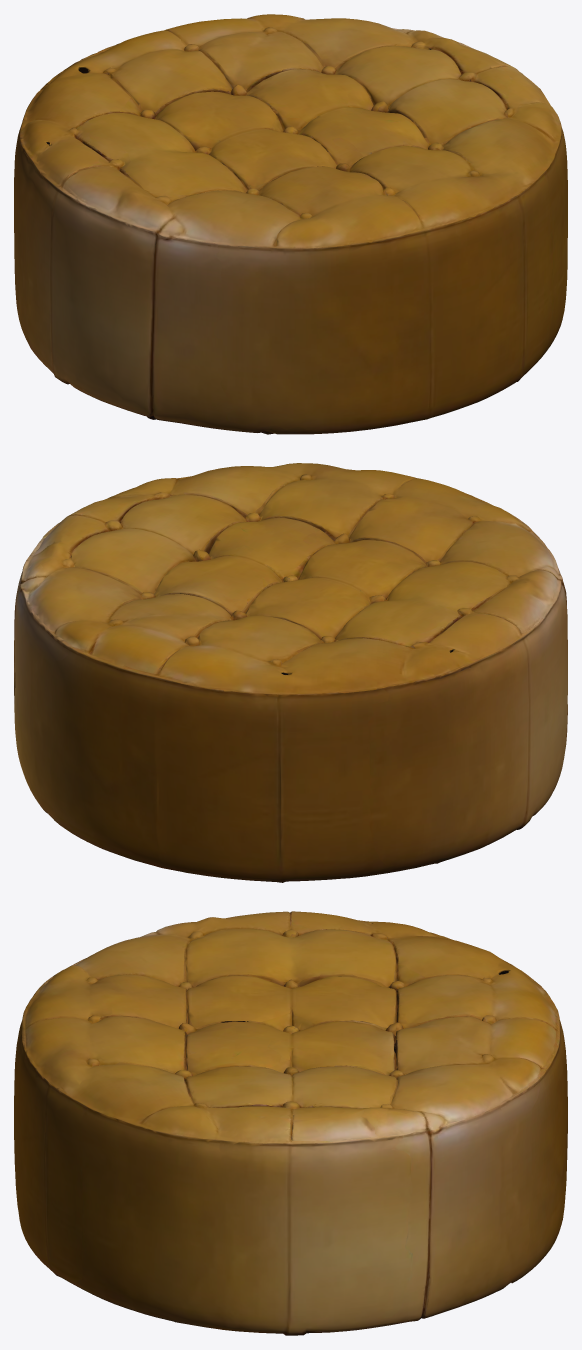
The picture shows the model from 3 angles, top to bottom: view 1: azimuth 30°, elevation 25°; view 2: azimuth 150°, elevation 25°; view 3: azimuth 270°, elevation 25°; orthographic projection.
Visible parts, largest first — view 1: geometry_0; view 2: geometry_0; view 3: geometry_0.
Part boxes in pixels (<box>): geometry_0: <box>14,14,567,434</box>; geometry_0: <box>14,463,567,882</box>; geometry_0: <box>14,911,567,1335</box>.
Size of the model in its own units: 0.9993 by 0.4189 by 0.9987.
Materials: 1 (1 with a texture image).
